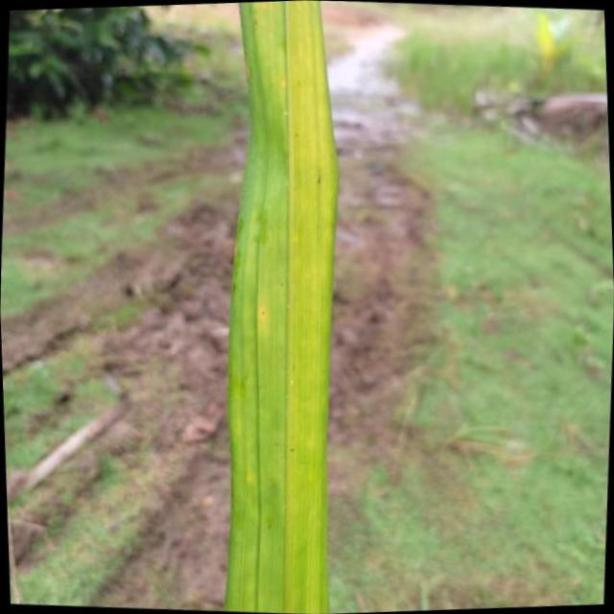nitrogen: (219, 0, 342, 614)
